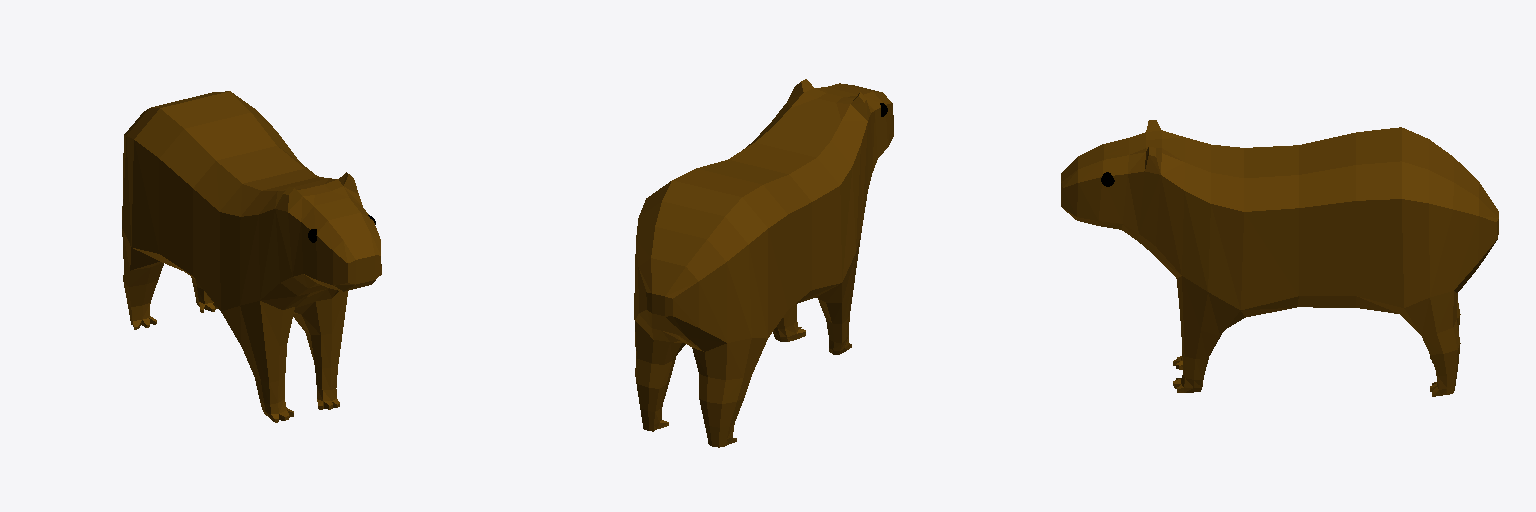
The picture shows the model from 3 angles: view 1: azimuth 30°, elevation 25°; view 2: azimuth 150°, elevation 25°; view 3: azimuth 270°, elevation 25°; orthographic projection.
Visible parts, largest first — view 1: Body.001; view 2: Body.001; view 3: Body.001.
Part boxes in pixels (x1,y1,x2,y2): Body.001: (122,91,381,422); Body.001: (634,79,893,447); Body.001: (1061,120,1498,396).
Bounding box in the file's own units: 1.52 × 2.85 × 4.61.
2 materials, 1 textured.